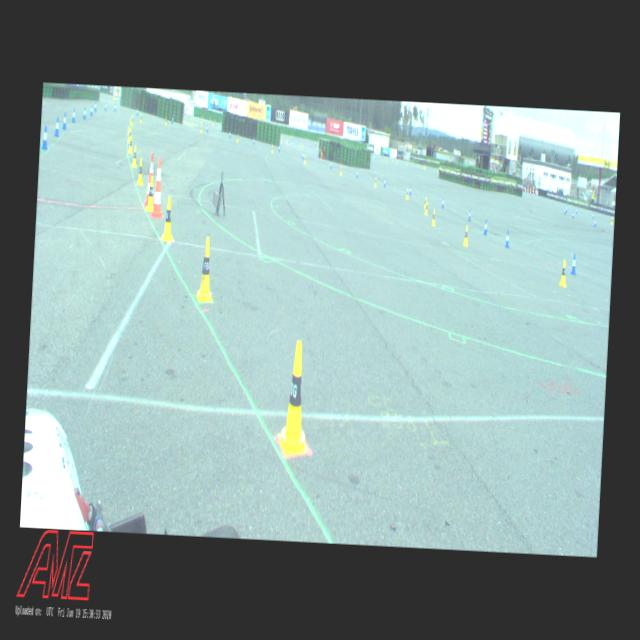blue_cone: (570, 253, 578, 274), (42, 126, 48, 150), (54, 117, 60, 137), (505, 230, 510, 247), (62, 113, 67, 130), (483, 220, 488, 234), (72, 109, 76, 122), (83, 107, 86, 119), (468, 210, 471, 220), (409, 185, 412, 195), (486, 219, 488, 231), (90, 106, 92, 116), (442, 198, 444, 208), (95, 102, 97, 111), (384, 178, 386, 187)
large_orange_cone: (150, 158, 166, 218), (144, 152, 154, 206)
yellow_cone: (277, 341, 313, 456), (196, 238, 216, 302), (160, 196, 174, 242), (146, 176, 155, 211), (558, 260, 568, 286), (136, 158, 144, 186), (132, 146, 138, 168), (463, 226, 469, 246), (128, 136, 134, 154), (432, 210, 436, 226), (128, 128, 132, 143), (424, 202, 428, 215), (128, 122, 131, 136), (424, 198, 427, 208), (406, 188, 408, 200), (374, 177, 376, 187), (131, 116, 133, 126), (165, 116, 167, 125), (140, 114, 142, 123)
